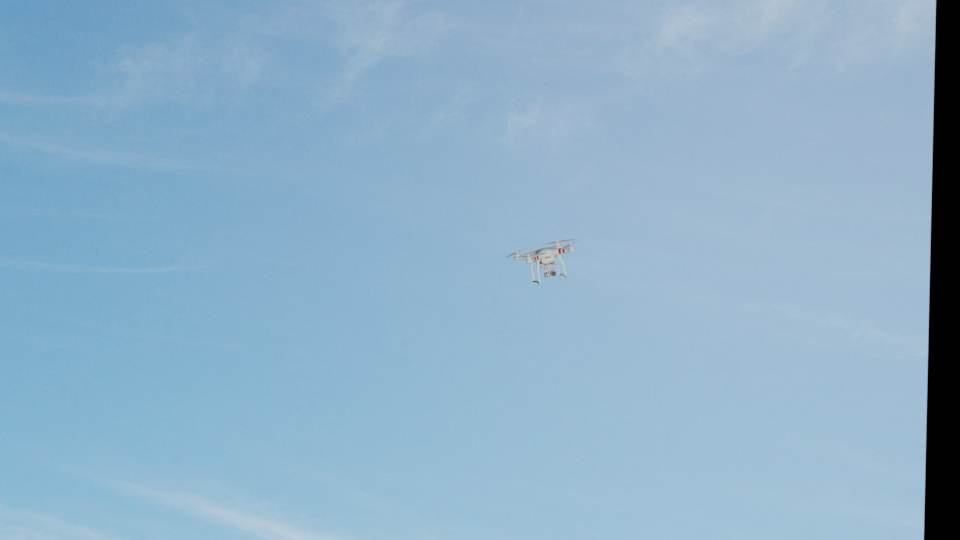drone: (507, 235, 580, 284)
